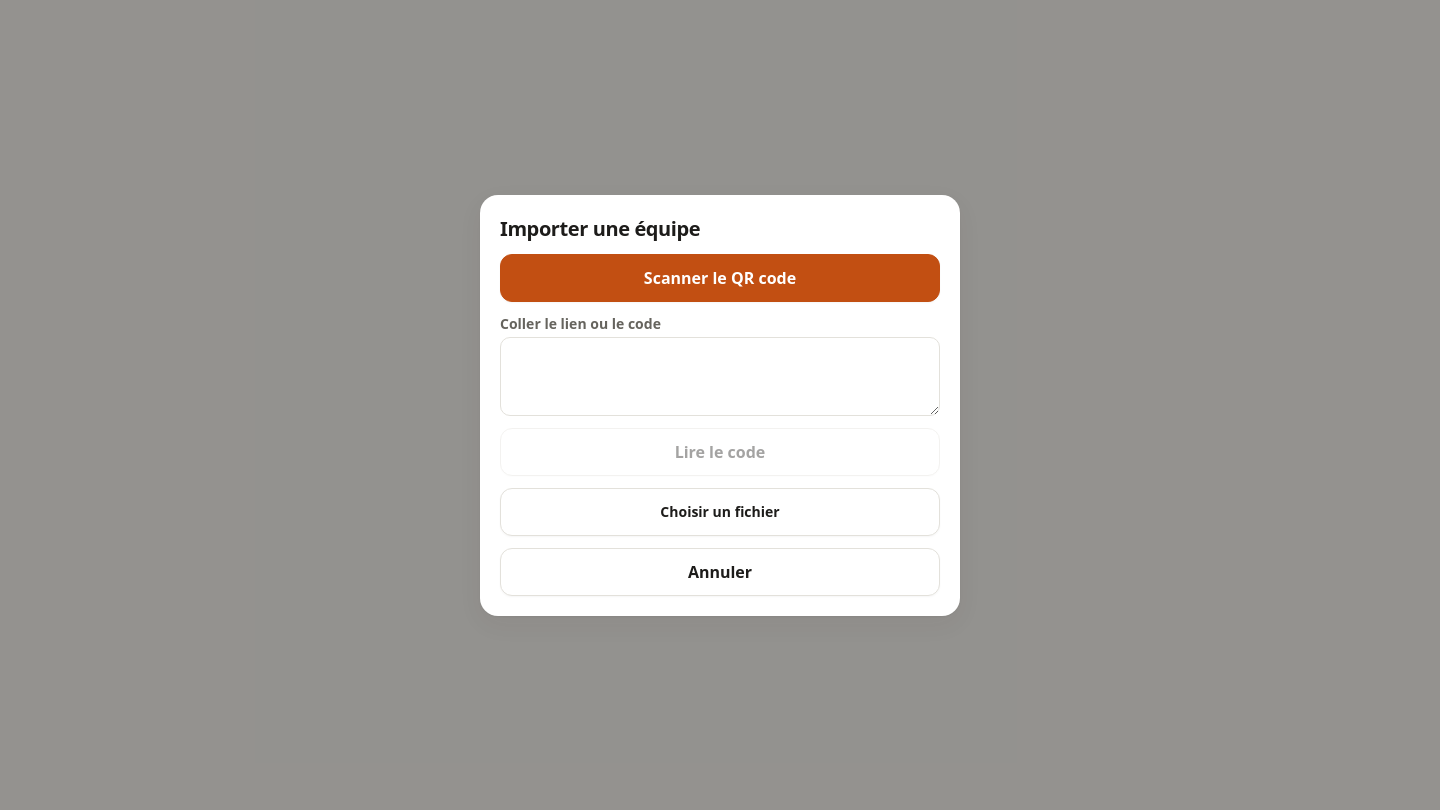
Scenario: ImportEquipe › lit le QR code scanné par la caméra
What coordinates should you click on to do the following:
click the button "Scanner le QR code"
I would click on:
 (720, 278)
Its box is [500,254,940,302].
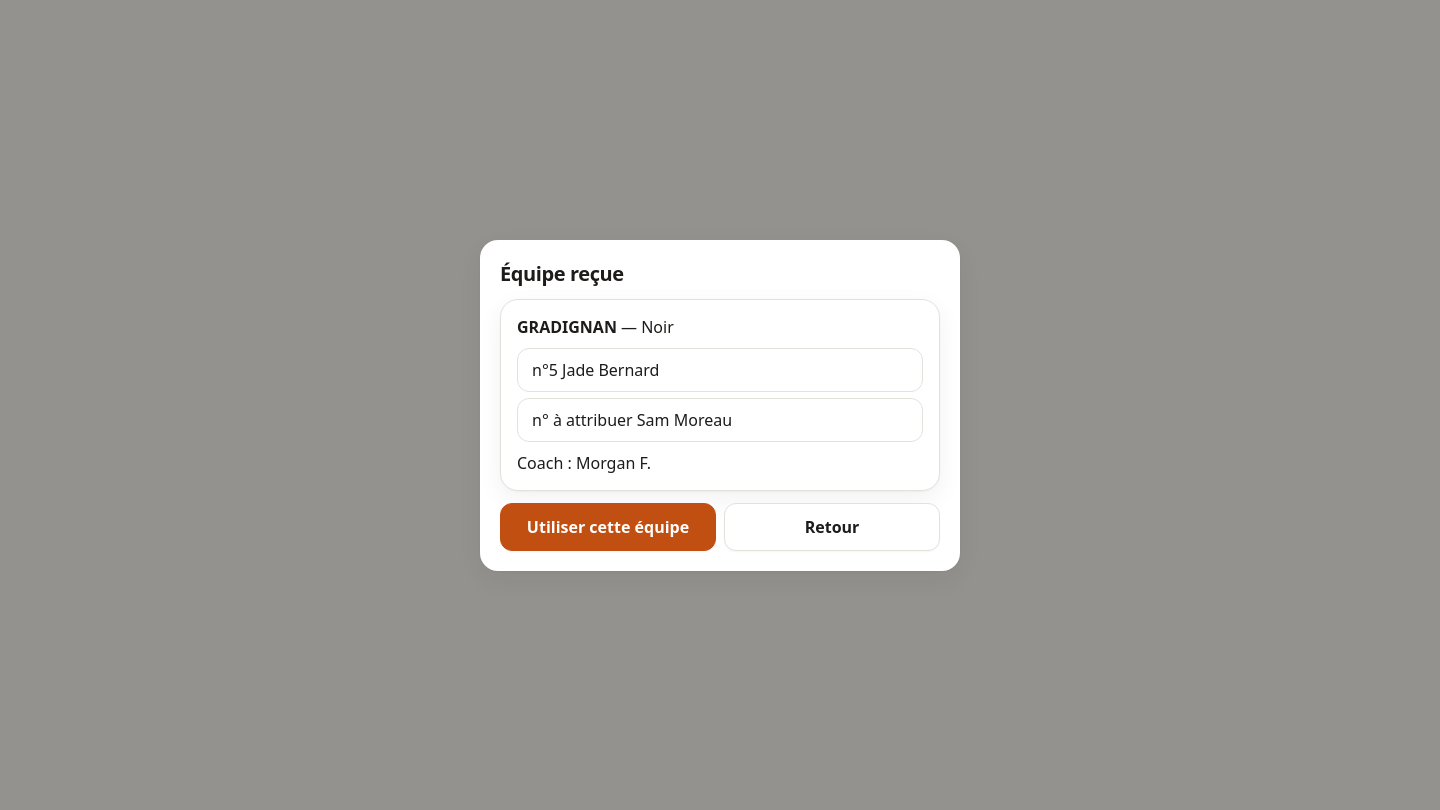
Expected: the dialog "Équipe reçue" is shown, [480,240,960,570]
